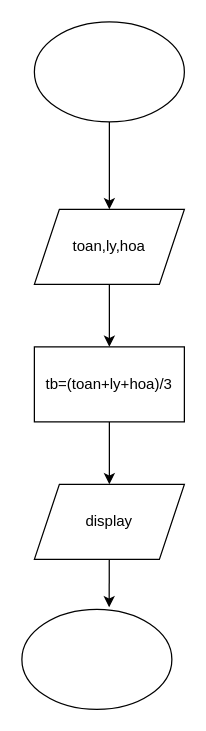
This 206x731 diagram has some shape labels left out. The centre of each missing label's shape, as x and y in pixels:
"and" goes at point 96,658.
"BEGIN" goes at point 108,71.
